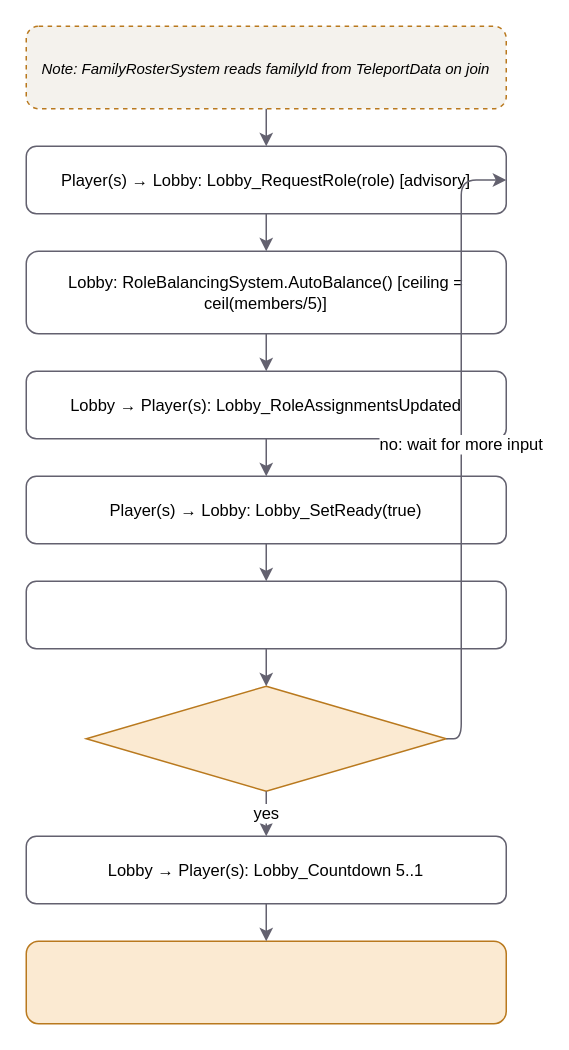
Image size: 569x1050. Some labels were removed from this diagram. The centre of each missing label's shape, as x and y in pixels:
everyone ready and assigned?: (x=265, y=738)
Lobby → Player(s): Lobby_ReadyStateUpdated: (x=265, y=614)
Lobby → TeleportService: ReserveServer(PlayAreaPlaceId) [FRESH reservation]: (x=265, y=982)
